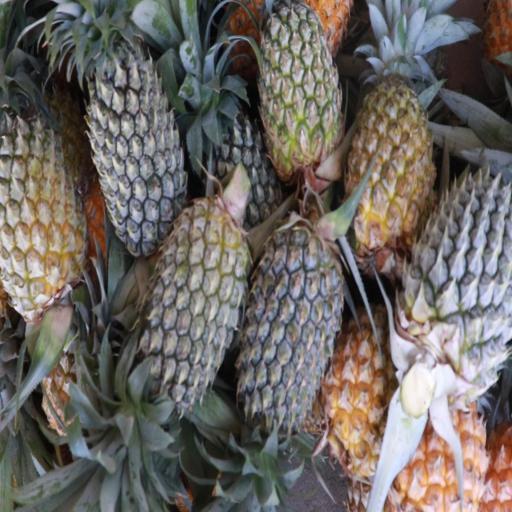------------------------------: (0, 117, 83, 326), (260, 0, 342, 180)
Pineapple - v8 v1: (347, 61, 431, 253), (328, 308, 407, 468), (399, 394, 488, 512)
